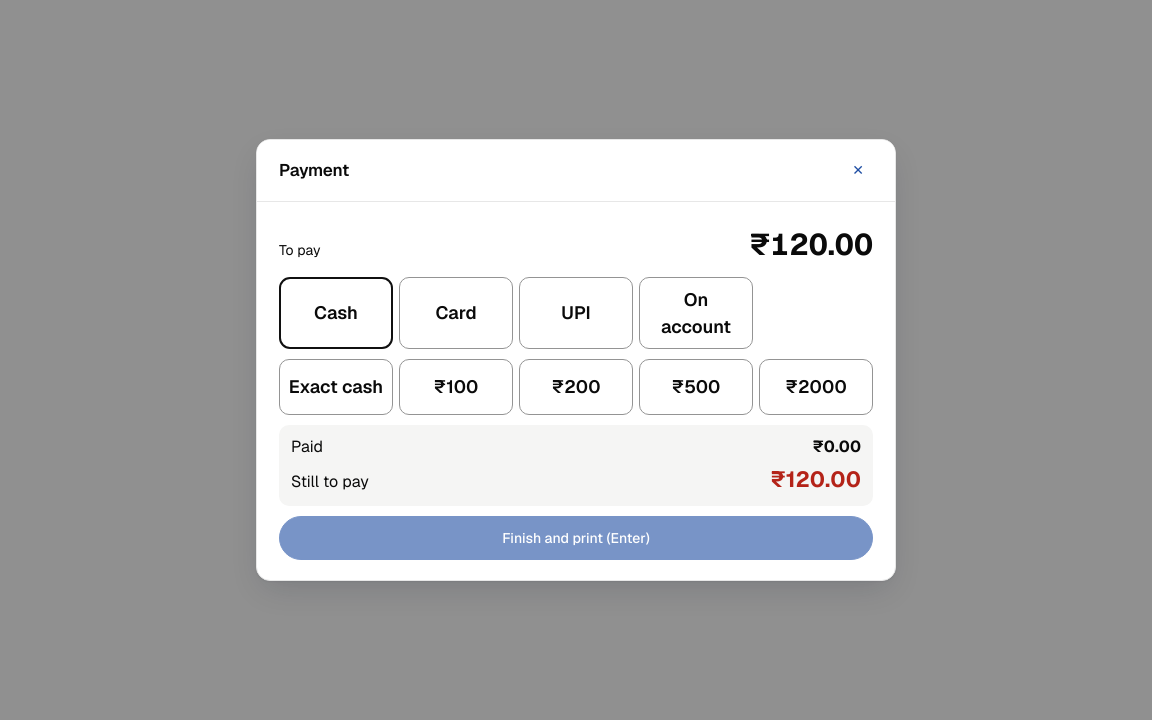
Test: on account at the till (plan 07 §1a) › for a named customer it takes what is still to pay and gives no change
Step 1. Click the button "On account" → (696, 313), box left=639, top=277, right=753, bottom=349
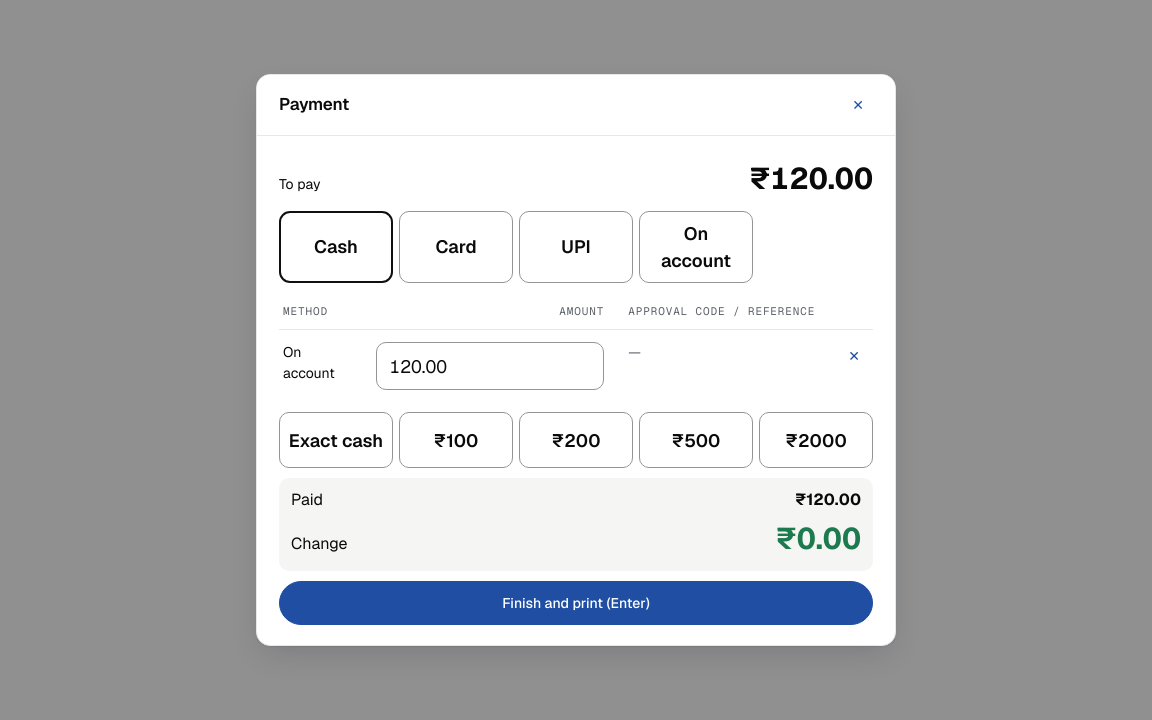
expect the field named "On account amount" holds "120.00": met, box left=376, top=342, right=604, bottom=390
expect the text with test id "pay-change" reads "₹0.00": met, box left=775, top=519, right=861, bottom=558
expect the button "Finish and print (Enter)" is enabled: met, box left=279, top=581, right=873, bottom=625
